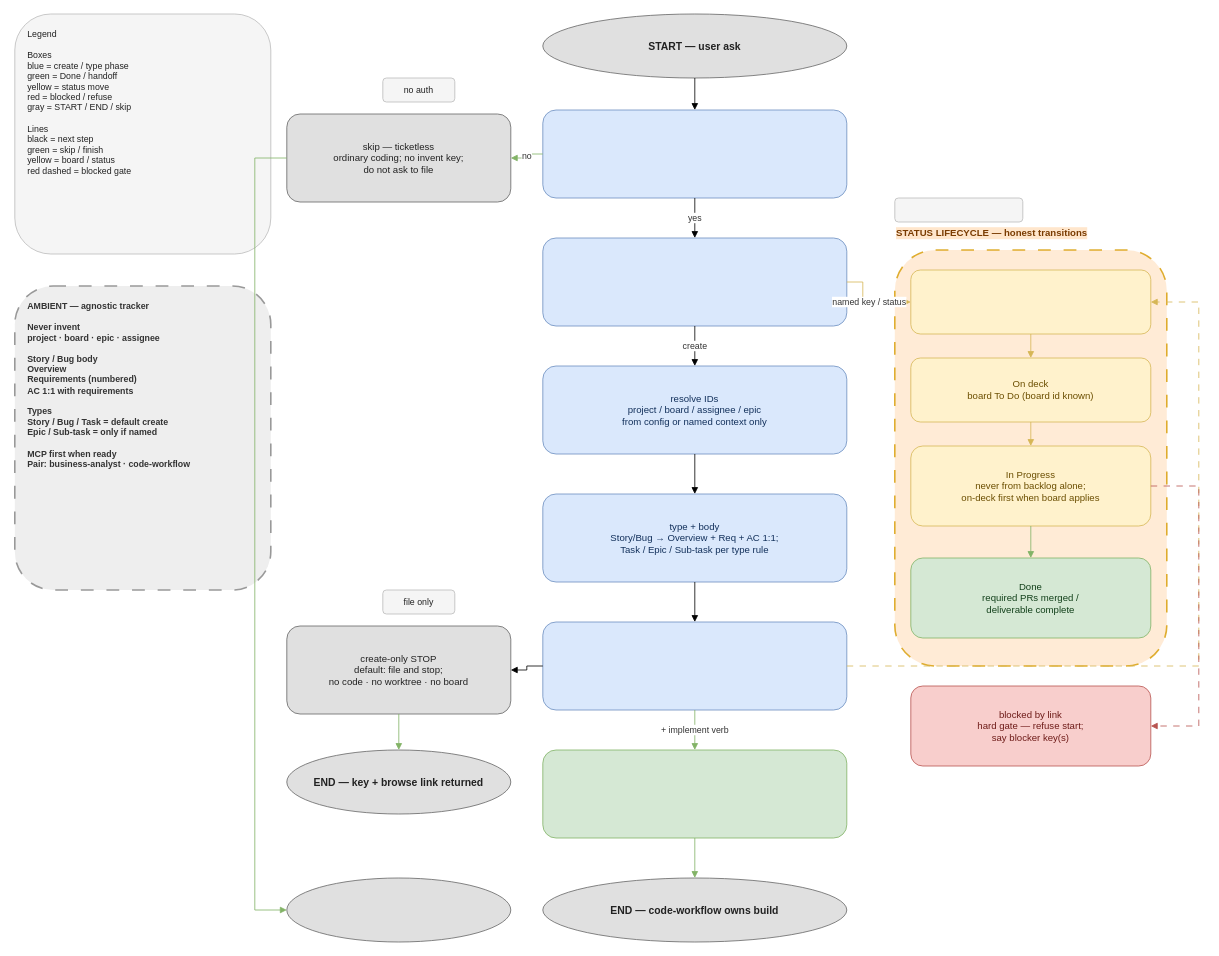
Image size: 1219x956. Some labels were removed from this diagram. Each missing label, with the box of its shape:
Backlog created; no start directive: (910, 269, 1151, 334)
create via MCP leave on Backlog unless asked to board or start: (542, 621, 847, 710)
create-and-implement explicit second verb only; hand to code-workflow: (542, 749, 847, 838)
END — stay ticketless: (286, 877, 511, 942)
gate · tracker work? explicit create / manage / transition or named issue key: (542, 109, 847, 198)
intent create new · work named key · board / status only: (542, 237, 847, 326)
named key / status ask: (894, 197, 1023, 222)
